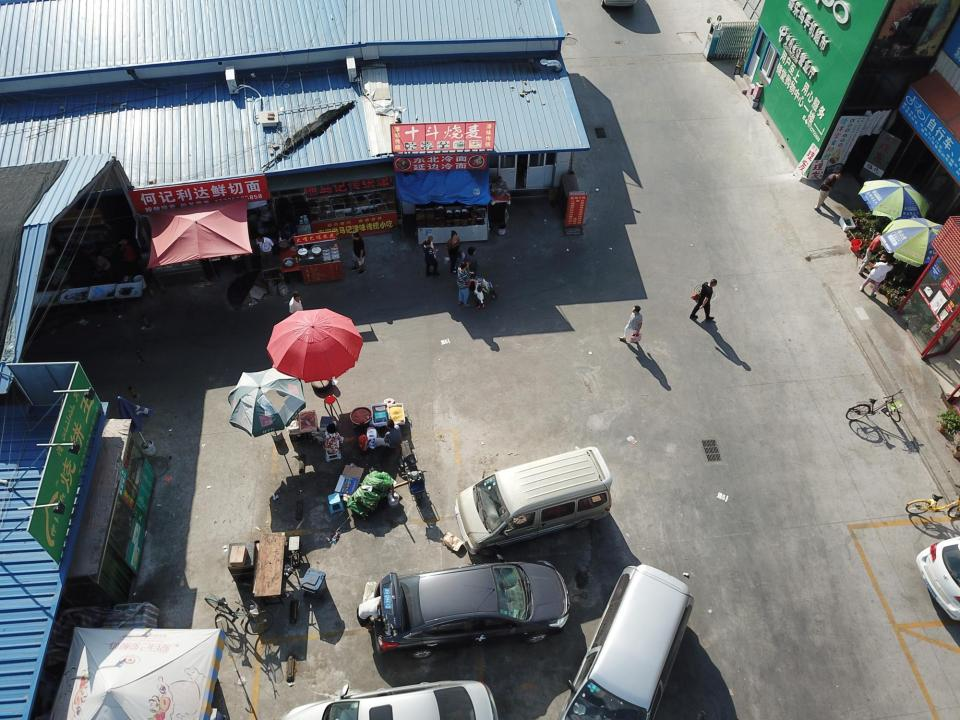van: (556, 562, 696, 720), (368, 552, 570, 660), (454, 445, 614, 557), (277, 678, 500, 720)
